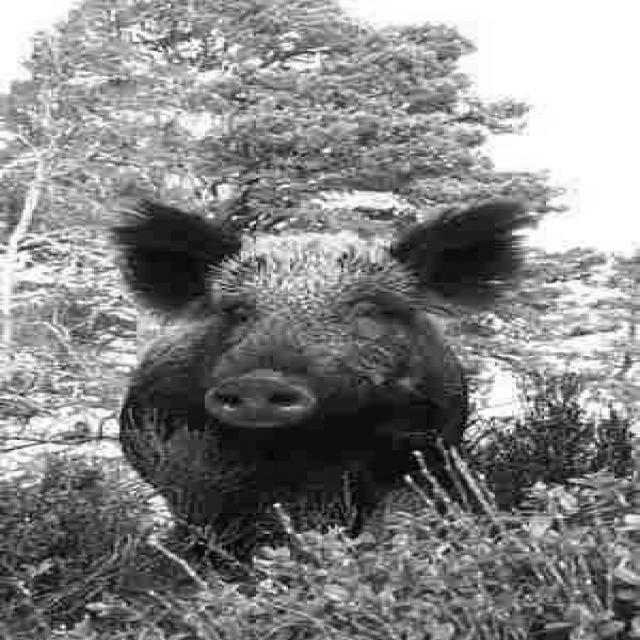boar: (117, 202, 516, 539)
